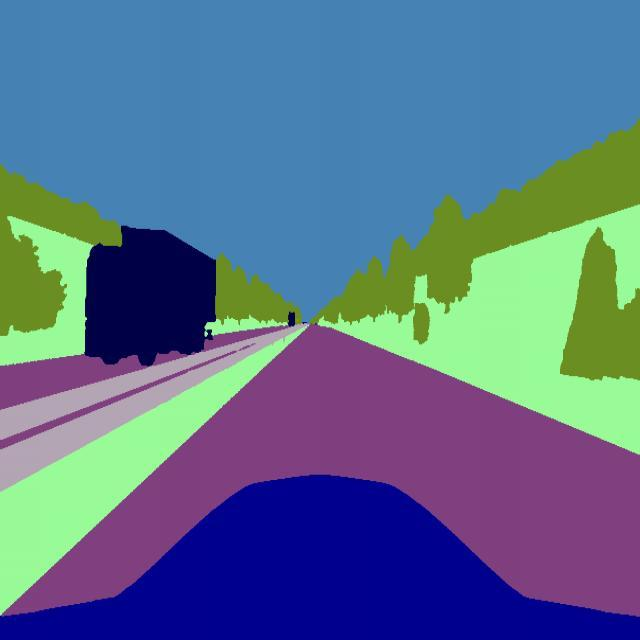safe: (82, 220, 220, 366)
